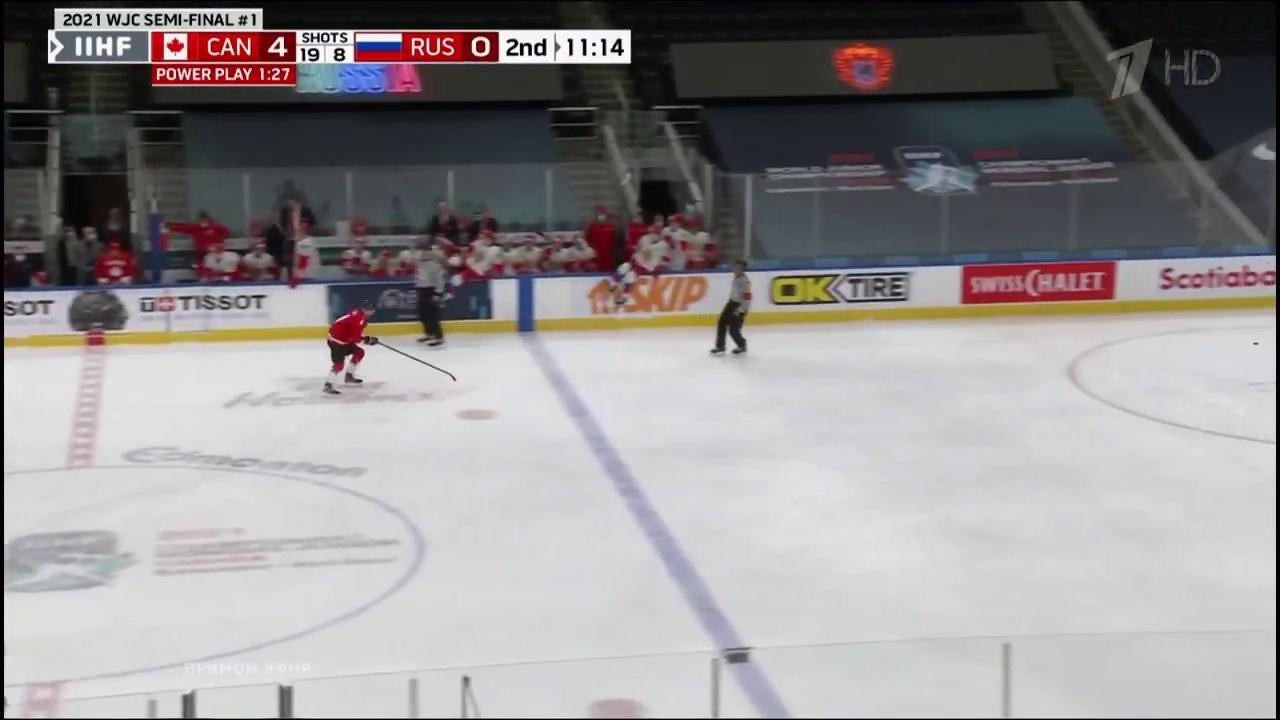ball: (1253, 342, 1259, 346)
